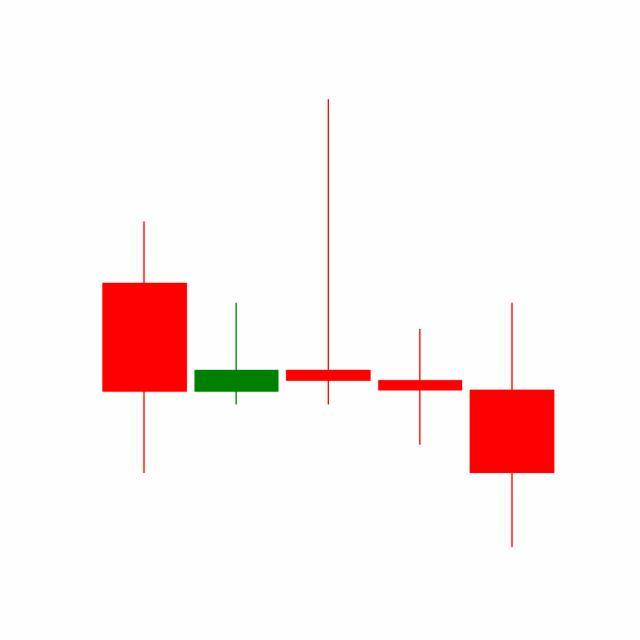Spinning Top: (374, 329, 468, 448)
